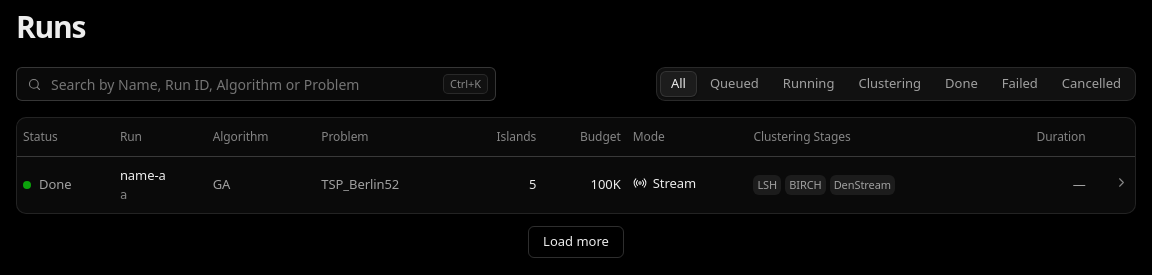
Test: RunsPage › keeps the loaded runs and the Load more button when a further page fails
The image size is (1152, 275).
Click the button "Load more": (576, 242) [528,226,624,258]
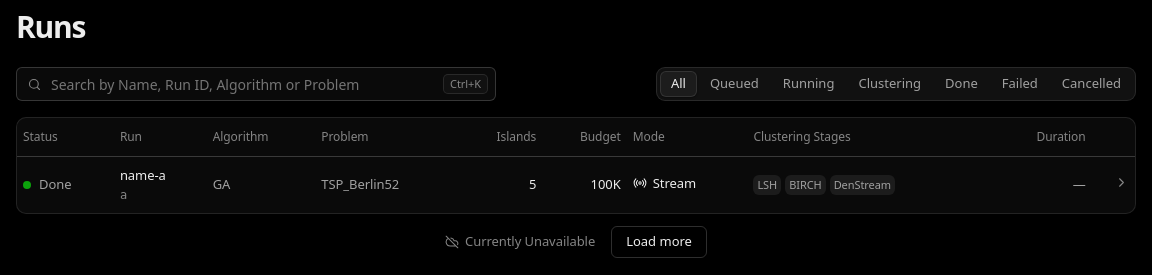
Expected: the button "Load more" is shown, [611,226,707,258]
Expected: the text "Currently Unavailable" is shown, [445,232,595,251]
